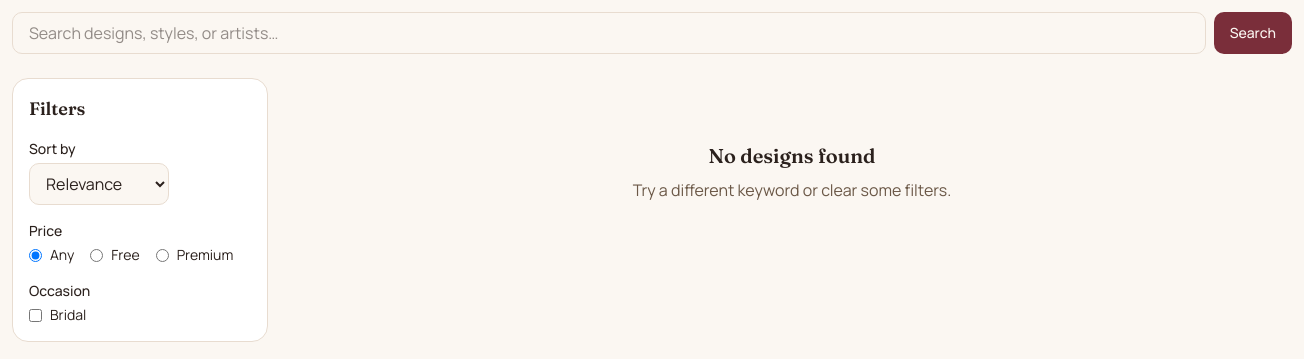
Test: SearchView › shows an empty state with a clear-filters action when filtered results are empty
Check: the heading "No designs found" is shown, box [708, 142, 876, 170]
Click the checkbox labelled "Bridal" at (36, 315), box [29, 308, 42, 322]
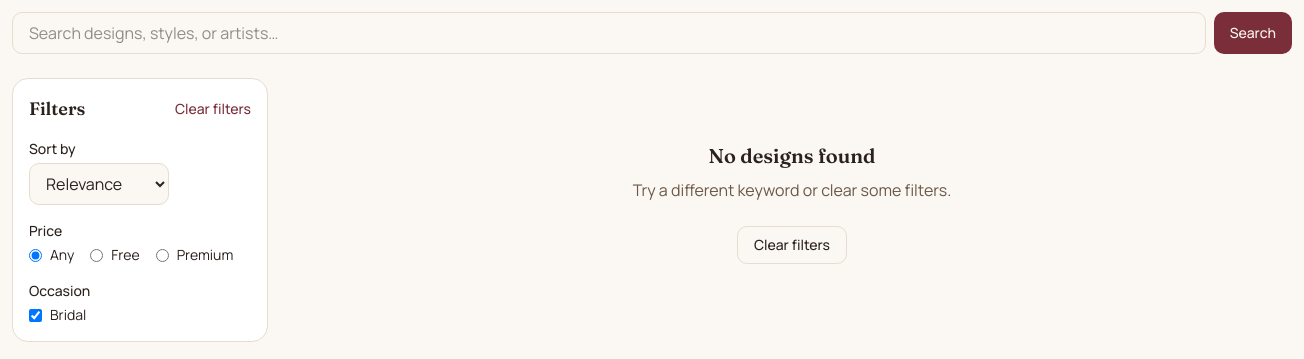
Check: the 1st button "Clear filters" is shown, box [175, 99, 251, 119]
